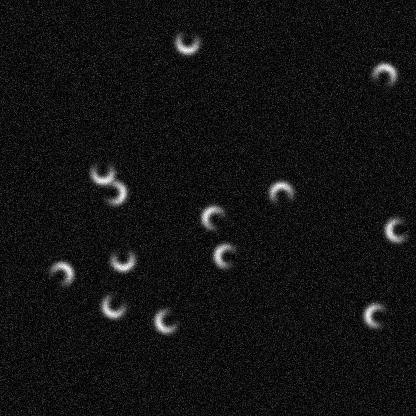Janus: (152, 305, 182, 335), (368, 60, 398, 90), (87, 156, 117, 186), (107, 243, 137, 273), (266, 179, 296, 209), (45, 259, 75, 289), (199, 203, 229, 233), (382, 214, 412, 244), (98, 290, 128, 320), (361, 300, 391, 330), (172, 26, 202, 56), (98, 177, 128, 207), (211, 240, 241, 270)
